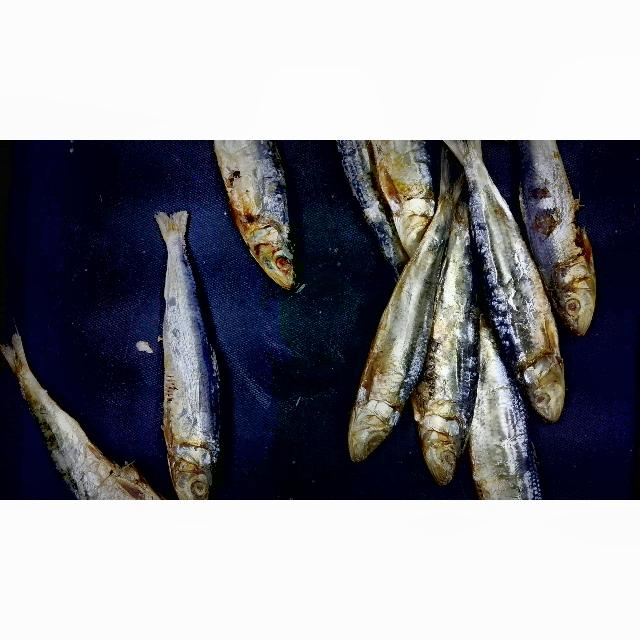Grade_B_Body: (145, 285, 235, 428), (504, 141, 609, 259), (353, 236, 427, 396), (410, 246, 481, 409), (25, 413, 157, 500), (208, 141, 305, 217)
Grade_B_Head: (231, 220, 316, 297), (537, 261, 610, 344), (154, 428, 234, 500), (333, 401, 397, 477), (408, 418, 469, 489)
